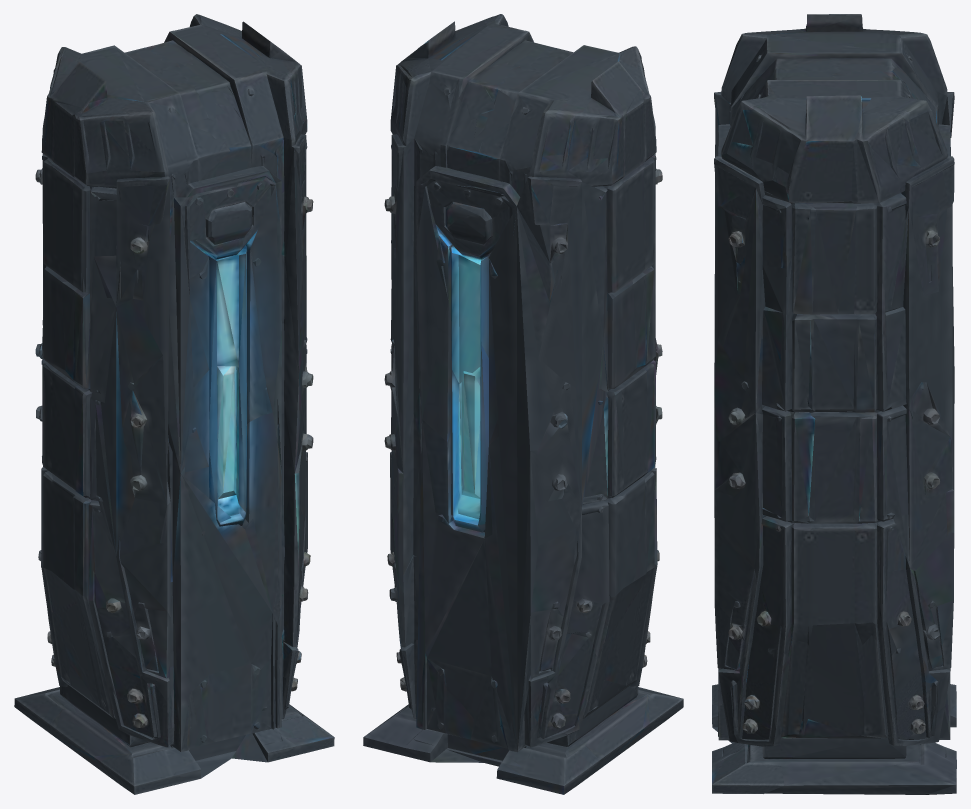
Rendered from wm_tshield.glb.
The picture shows the model from 3 angles, left to right: view 1: azimuth 30°, elevation 25°; view 2: azimuth 150°, elevation 25°; view 3: azimuth 270°, elevation 25°; orthographic projection. The views are drawn at different scales.
Size of the model in its own units: 0.658 by 1.9 by 0.6107.
1 material, 1 textured.
